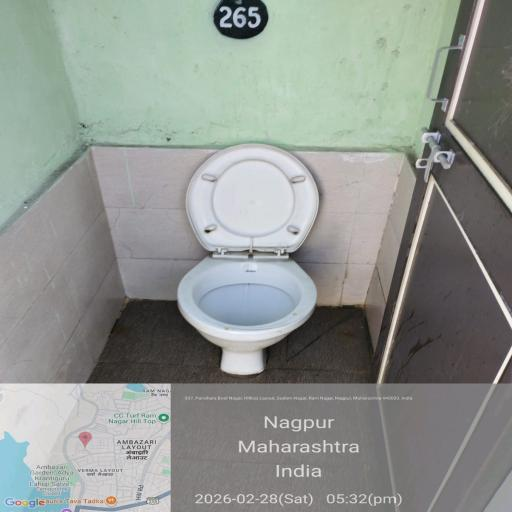clean_floor: (46, 10, 422, 134), (326, 172, 512, 366), (6, 145, 174, 325)
partial_dirty_floor: (103, 302, 392, 385)
partial_dirty_western: (188, 146, 318, 343)
